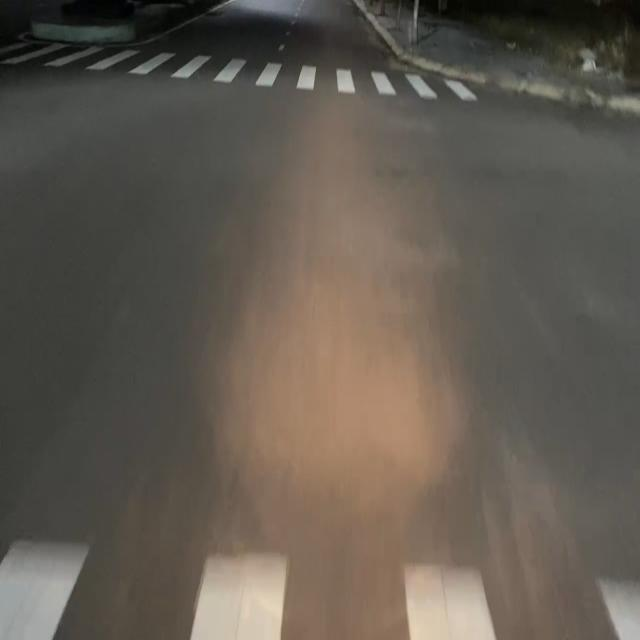walk-crossing: (0, 540, 640, 640), (0, 31, 481, 117)
